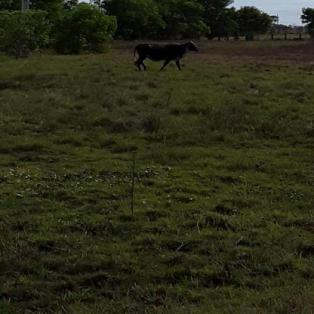Poste: (19, 0, 34, 14)
